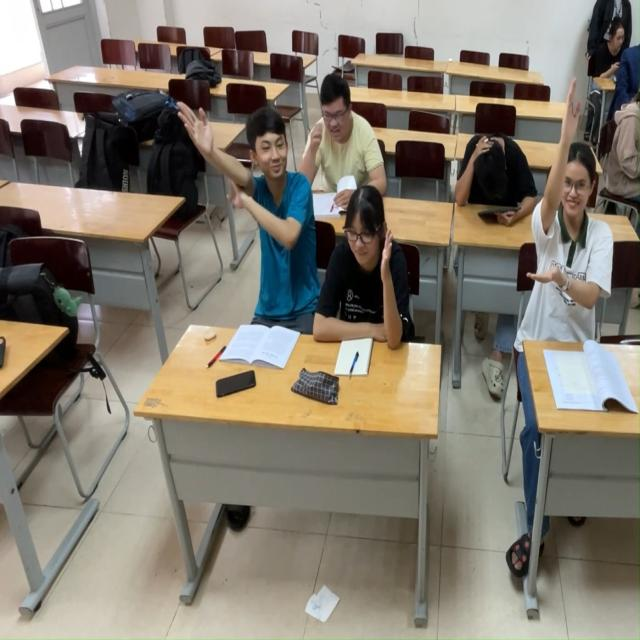raise_hand: (162, 92, 310, 373), (514, 78, 628, 434), (314, 179, 419, 370)
